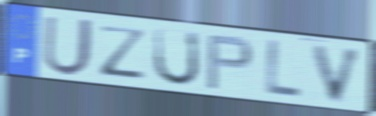L: (263, 37, 304, 101)
P: (204, 33, 256, 92)
U: (41, 14, 96, 78), (151, 25, 202, 88)
V: (309, 43, 366, 106)
Z: (97, 23, 150, 81)
